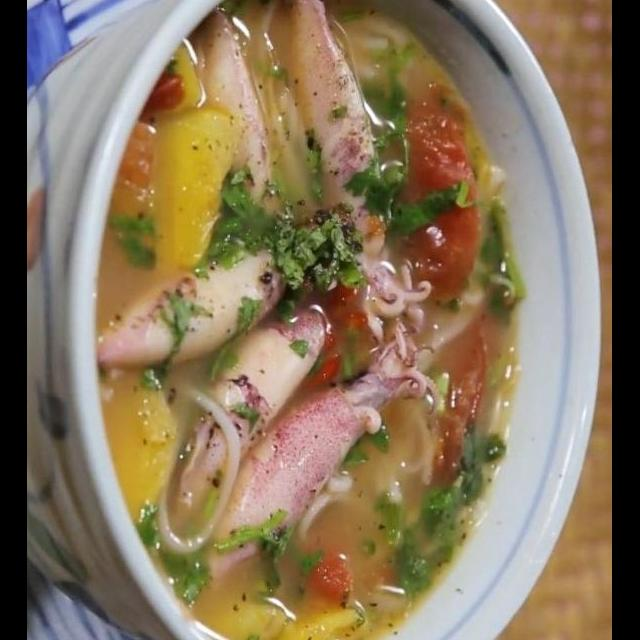bun: (298, 382, 448, 560), (150, 372, 248, 560), (341, 0, 423, 94)
muc: (188, 298, 446, 598), (269, 0, 439, 354), (166, 278, 350, 534), (92, 228, 298, 370), (184, 2, 288, 250)
